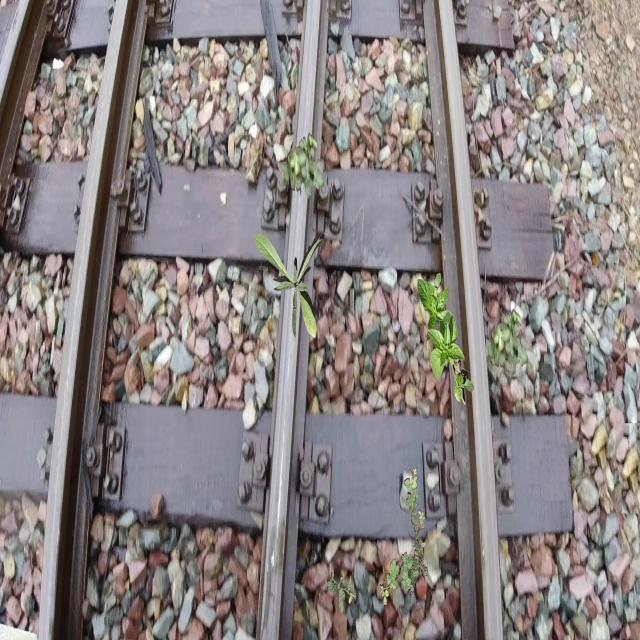Plant: (254, 232, 326, 340), (380, 467, 428, 605), (427, 311, 475, 406), (417, 273, 458, 344), (485, 309, 528, 376), (281, 133, 324, 200), (327, 573, 354, 614)
